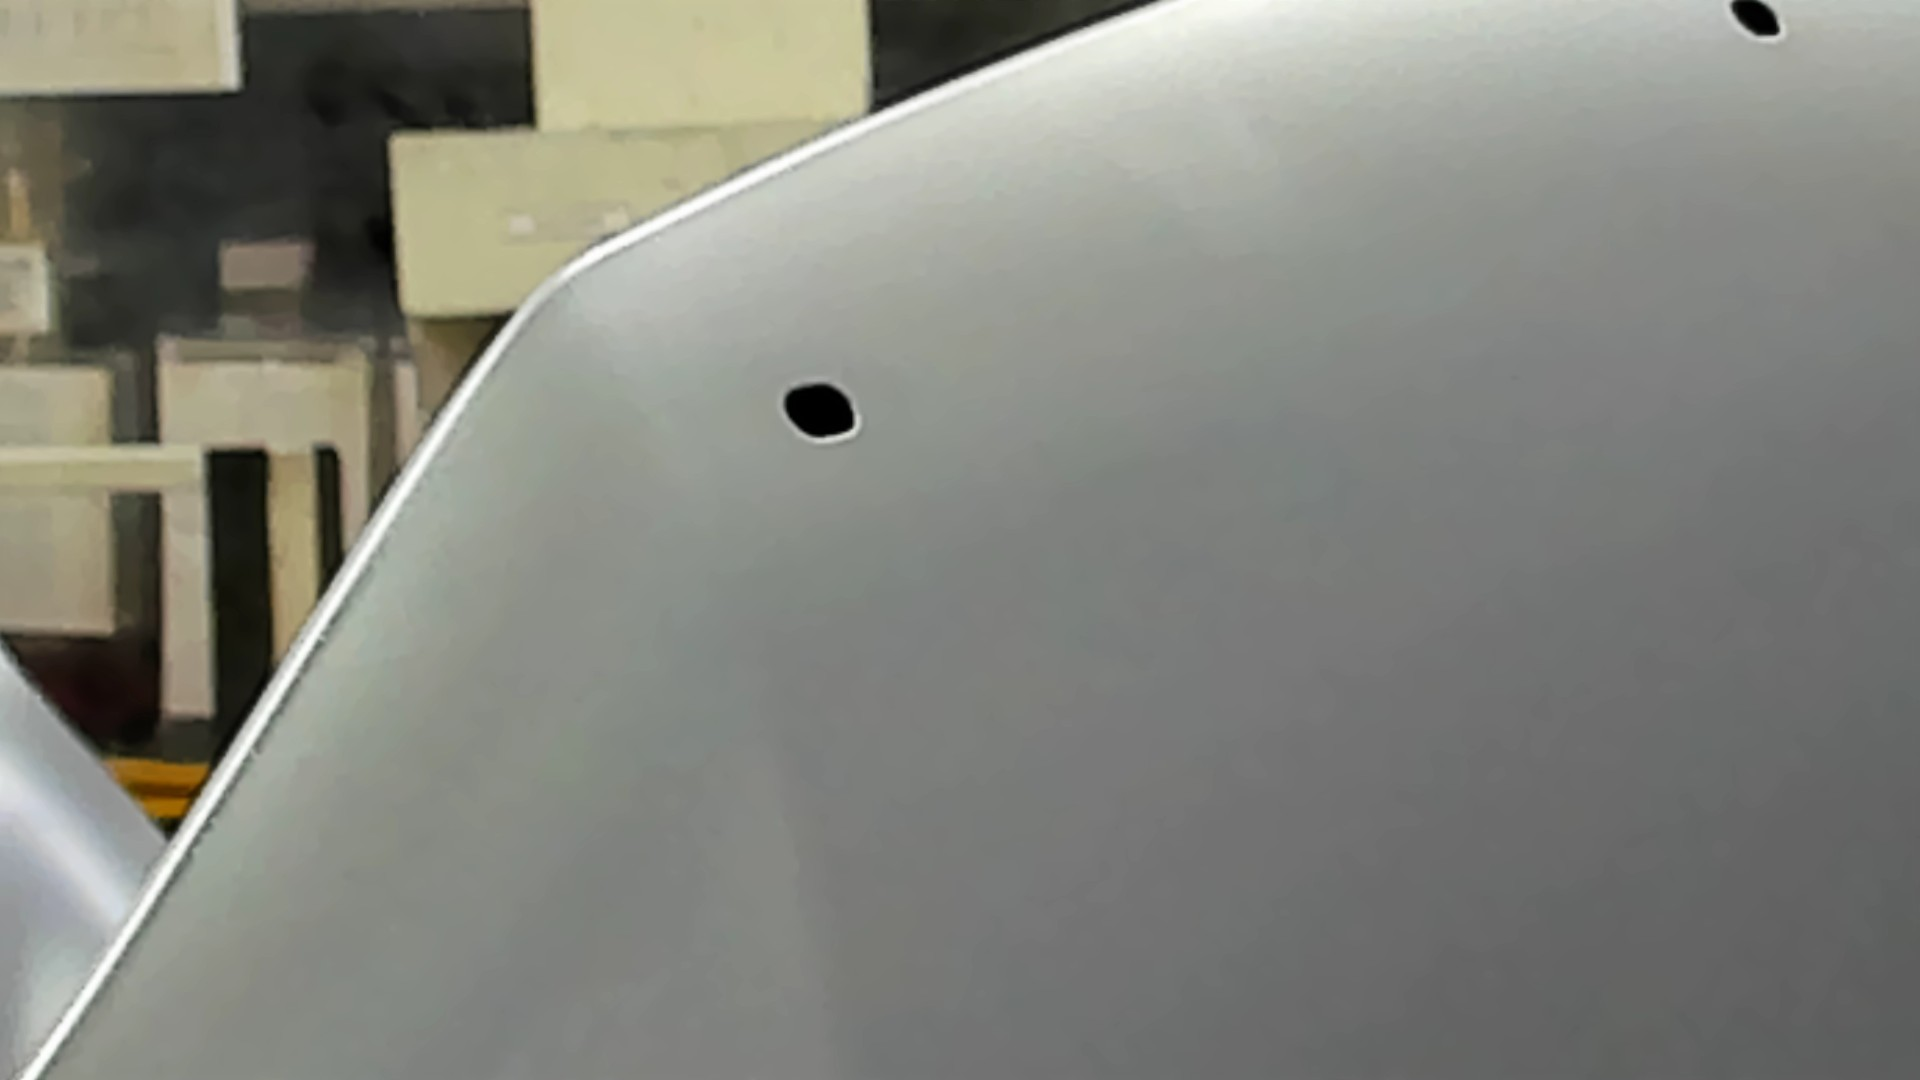amorfo: (773, 376, 862, 447), (1727, 1, 1792, 47)
